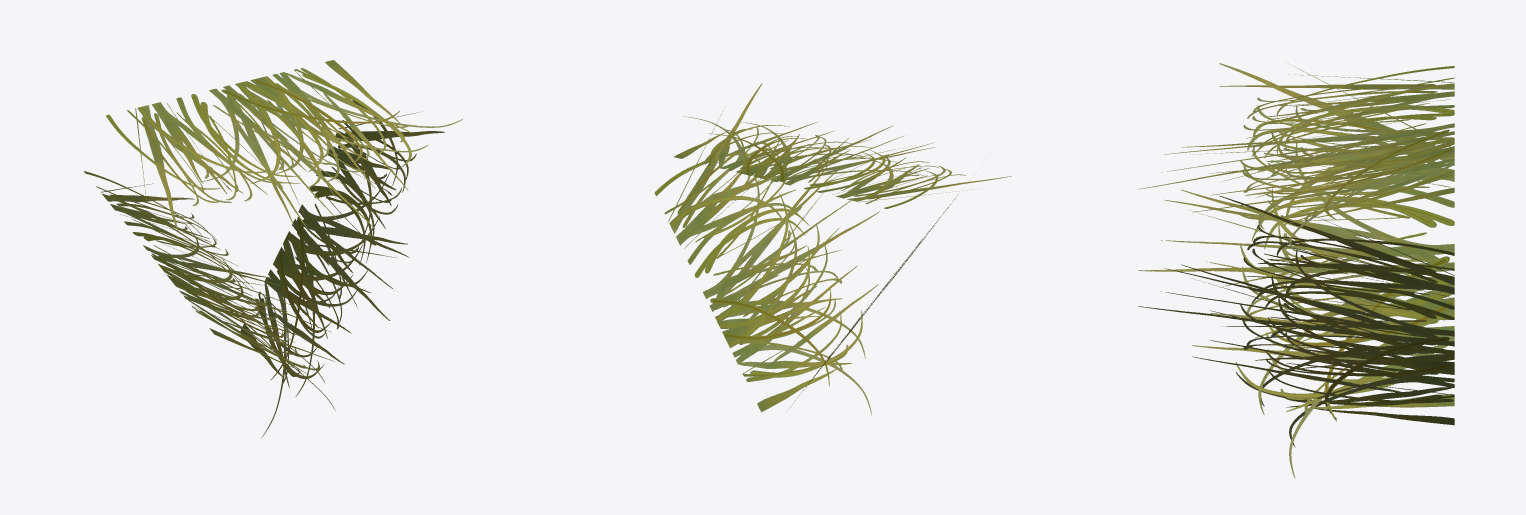
Rendered from GrassV2.fbx.
3 renders of one model, left to right at view 1: azimuth 30°, elevation 25°; view 2: azimuth 150°, elevation 25°; view 3: azimuth 270°, elevation 25°, orthographic. The views are drawn at different scales.
Parts seen in each view (by area): view 1: Plane.001; view 2: Plane.001; view 3: Plane.001.
Part boxes in pixels (x1=…): Plane.001: x1=84, y1=60, x2=463, y2=438; Plane.001: x1=654, y1=83, x2=1011, y2=415; Plane.001: x1=1138, y1=63, x2=1454, y2=478.
Size of the model in its own units: 150 by 141 by 123.
